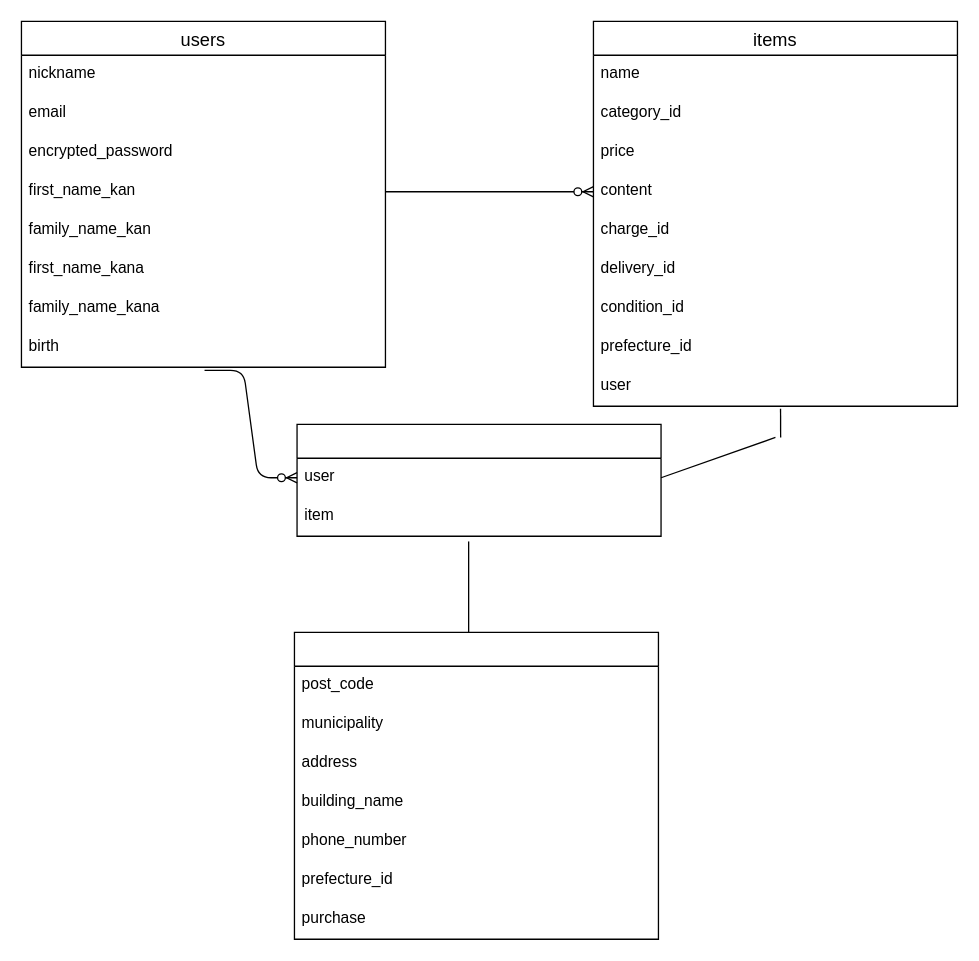
This 979x961 diagram has some shape labels left out. The box of each missing label's shape, as (x1, y1, x2, y2) in pixels:
purchases: (296, 423, 661, 536)
shippings: (293, 631, 658, 939)
